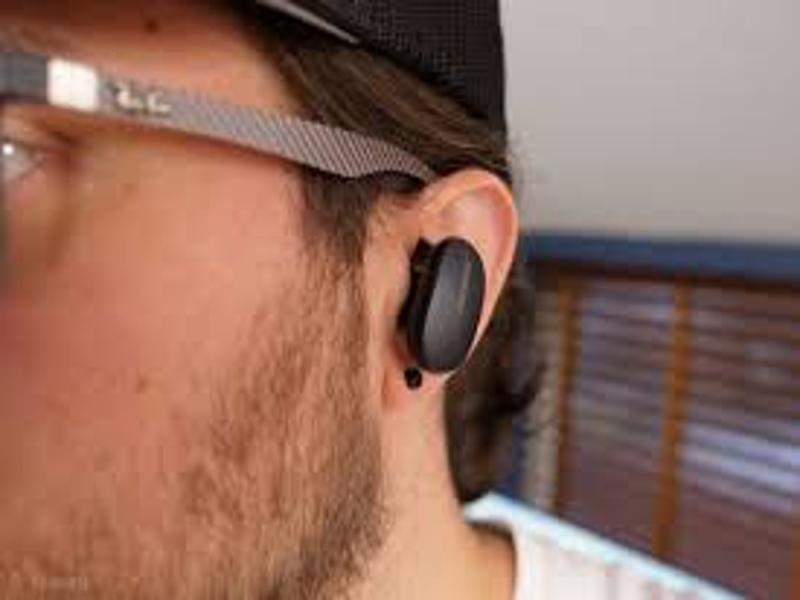headphone: (398, 232, 488, 376)
